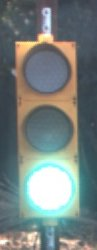Green: (6, 33, 87, 223)
